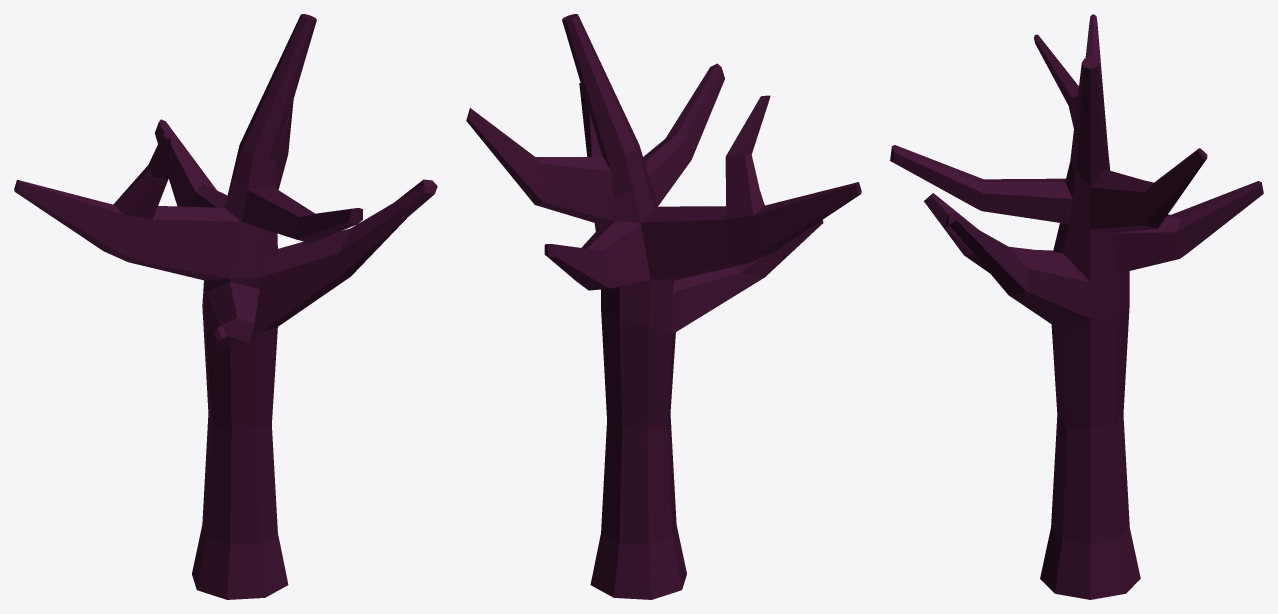
Rendered from Tree_Seco.fbx.
The picture shows the model from 3 angles, left to right: view 1: azimuth 30°, elevation 25°; view 2: azimuth 150°, elevation 25°; view 3: azimuth 270°, elevation 25°; orthographic projection.
Parts seen in each view (by area): view 1: Mesh; view 2: Mesh; view 3: Mesh.
Boxes of the visible parts, x1,y1,x2,y2 form: Mesh: (14, 14, 437, 599); Mesh: (466, 14, 861, 599); Mesh: (890, 14, 1263, 599).
Bounding box in the file's own units: 439 × 654 × 401.
